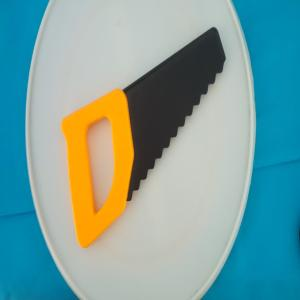serrote: (61, 26, 226, 248)
